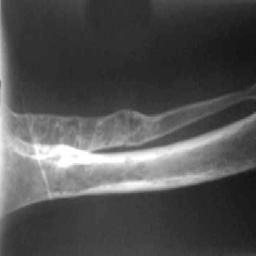cancer: (1, 100, 169, 167)
